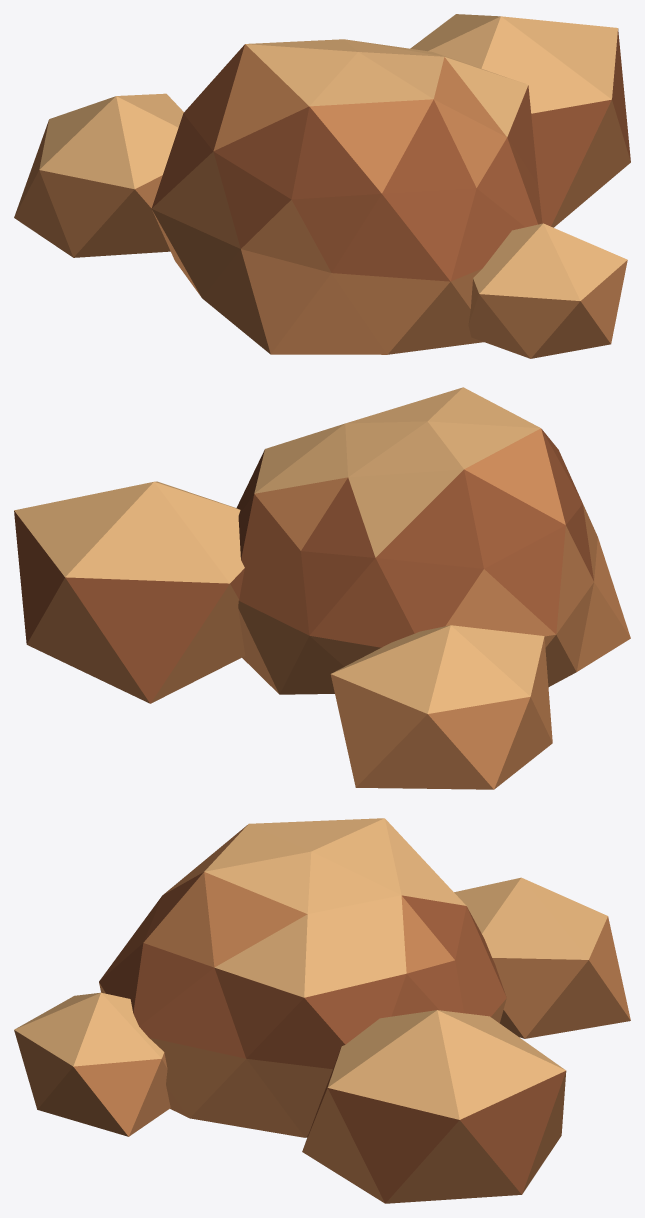
The model's file is boulder_c.glb.
The picture shows the model from 3 angles, top to bottom: view 1: azimuth 30°, elevation 25°; view 2: azimuth 150°, elevation 25°; view 3: azimuth 270°, elevation 25°; orthographic projection. The views are drawn at different scales.
Parts seen in each view (by area): view 1: boulder_c; view 2: boulder_c; view 3: boulder_c.
Part boxes in pixels (bbox=[...]): boulder_c: bbox=[14, 14, 630, 358]; boulder_c: bbox=[14, 387, 630, 789]; boulder_c: bbox=[14, 818, 630, 1203].
Size of the model in its own units: 1.45 by 0.5665 by 1.47.
